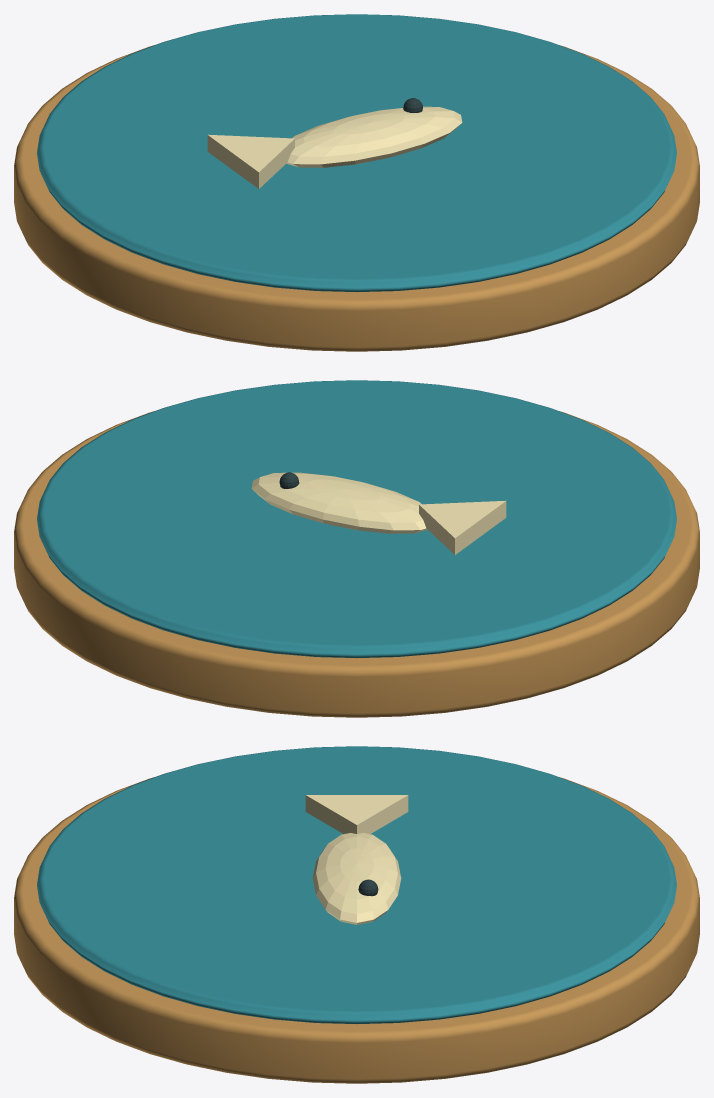
The model's file is fish-1.fbx.
3 views of the same model, one above another, from view 1: azimuth 30°, elevation 25°; view 2: azimuth 150°, elevation 25°; view 3: azimuth 270°, elevation 25° (orthographic).
Parts seen in each view (by area): view 1: fish-1; view 2: fish-1; view 3: fish-1.
Boxes of the visible parts, bbox=[...] form: fish-1: bbox=[14, 14, 699, 351]; fish-1: bbox=[14, 380, 699, 717]; fish-1: bbox=[14, 746, 699, 1083].
Size of the model in its own units: 2.4 by 0.355 by 2.4.
